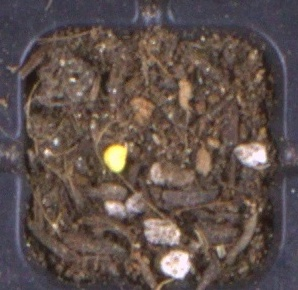chilli seed: (102, 144, 127, 173)
